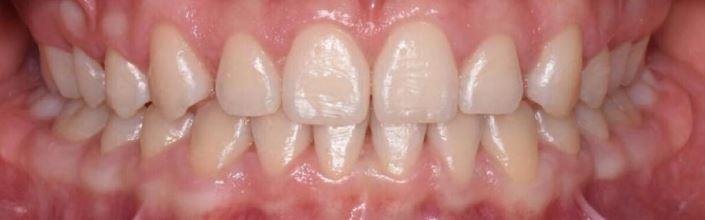1st Molar: (55, 97, 105, 145), (39, 38, 77, 98), (606, 90, 644, 131), (626, 35, 649, 84)
1st Premolar: (140, 103, 190, 163), (104, 48, 147, 117), (542, 108, 584, 159), (580, 48, 611, 108)
2nd Molar: (29, 85, 66, 121), (628, 70, 659, 108)
2nd Premolar: (75, 47, 105, 110), (99, 110, 141, 153), (610, 39, 634, 93), (576, 105, 610, 143)
Canine: (148, 19, 213, 119), (527, 19, 586, 120), (485, 98, 542, 188), (189, 100, 249, 175)
Central Incisor: (284, 16, 372, 125), (371, 18, 457, 124), (311, 103, 367, 183), (374, 102, 426, 183)
Lateral Incisor: (214, 26, 284, 116), (457, 26, 526, 116), (426, 103, 485, 188), (249, 102, 311, 179)
